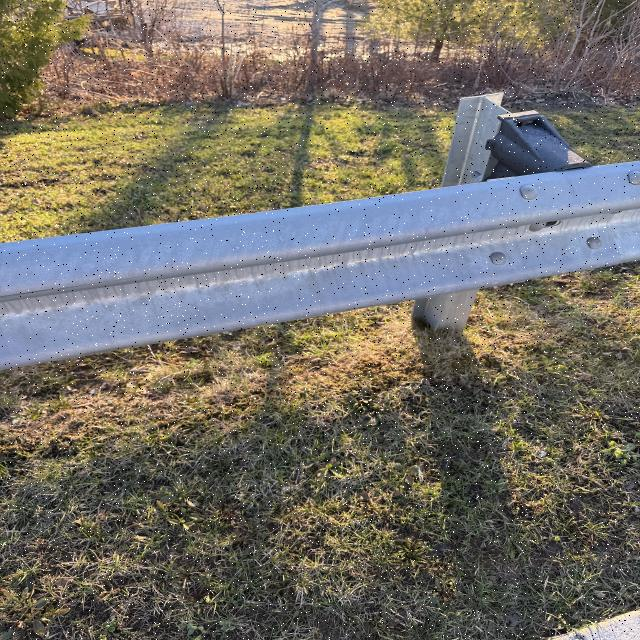Guard rail: (29, 111, 630, 350)
